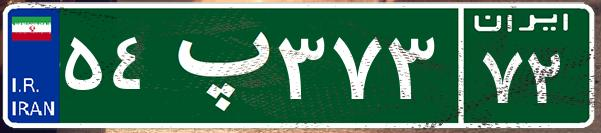2: (525, 38, 570, 115)
3: (385, 28, 445, 110), (273, 28, 330, 110)
4: (110, 28, 158, 105)
5: (57, 26, 110, 107)
7: (330, 28, 385, 110), (475, 38, 525, 113)
پ: (158, 15, 273, 115)
